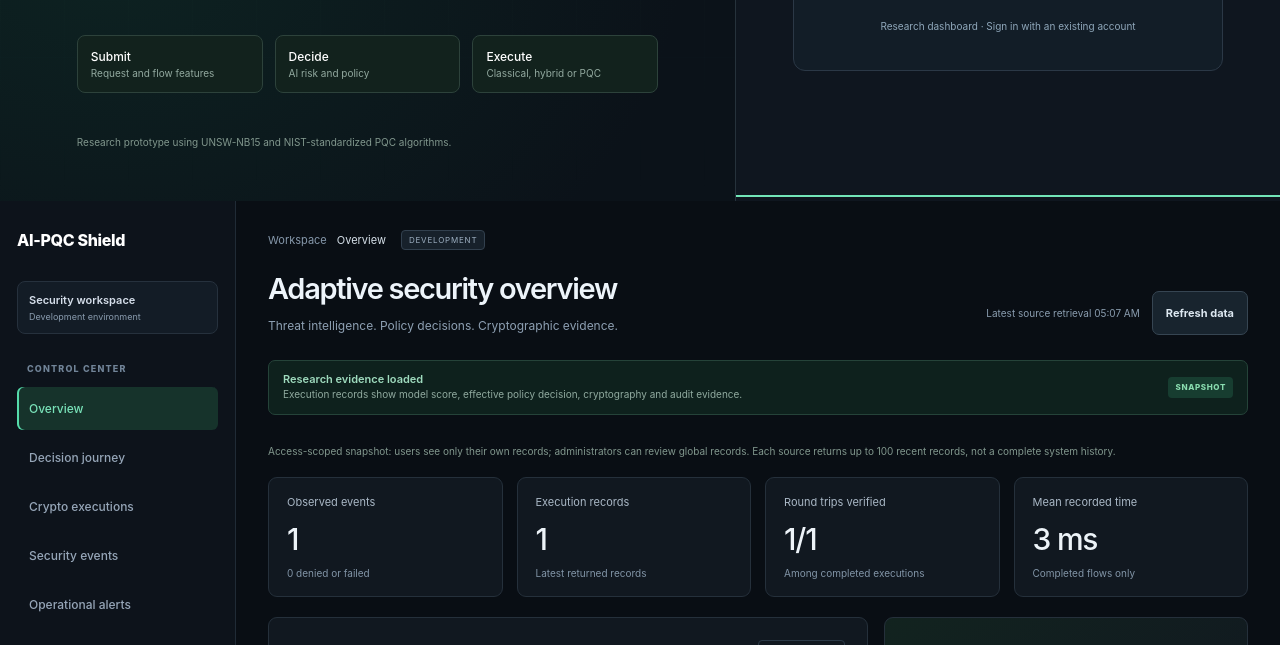
Test: Evidence session/access boundaries › clears a denied source before a slow peer finishes and excludes its data from exports
(page scrolled)
Expected: the text "Research evidence loaded" is shown, [283, 372, 423, 386]
Click the button "Refresh data".
click(1200, 313)  # box [1152, 291, 1248, 335]
(page scrolled)
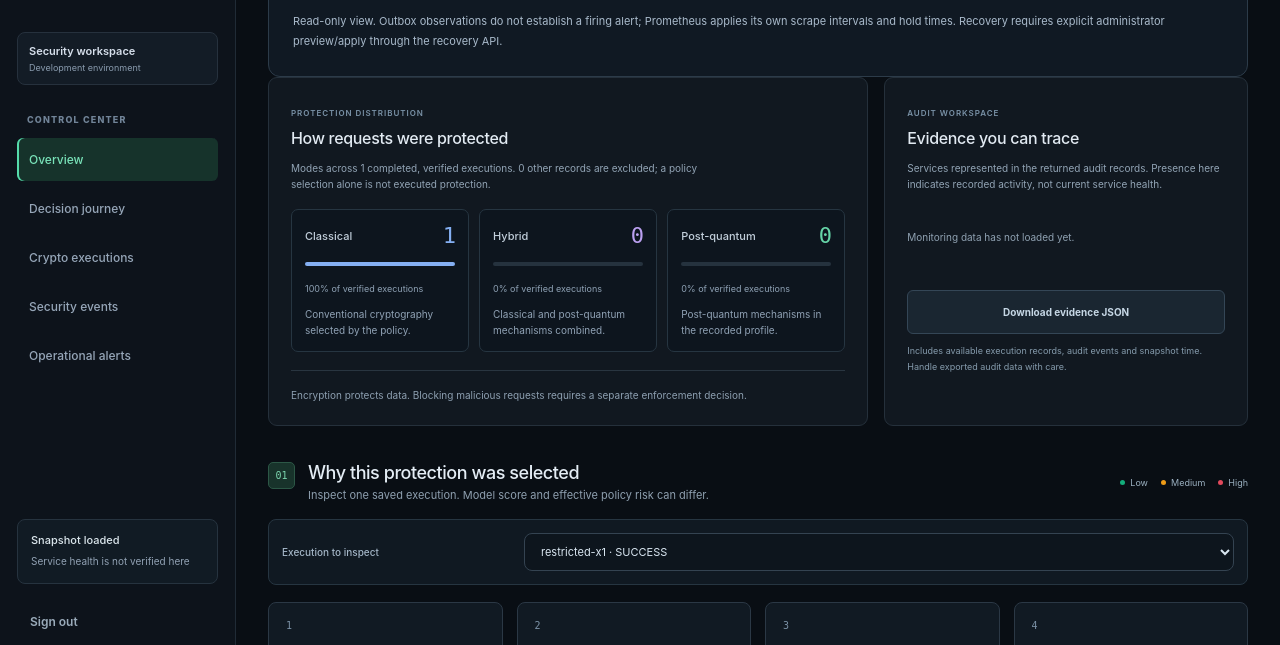
Click the button "Download evidence JSON".
click(1066, 312)  # box [907, 290, 1225, 334]
(page scrolled)
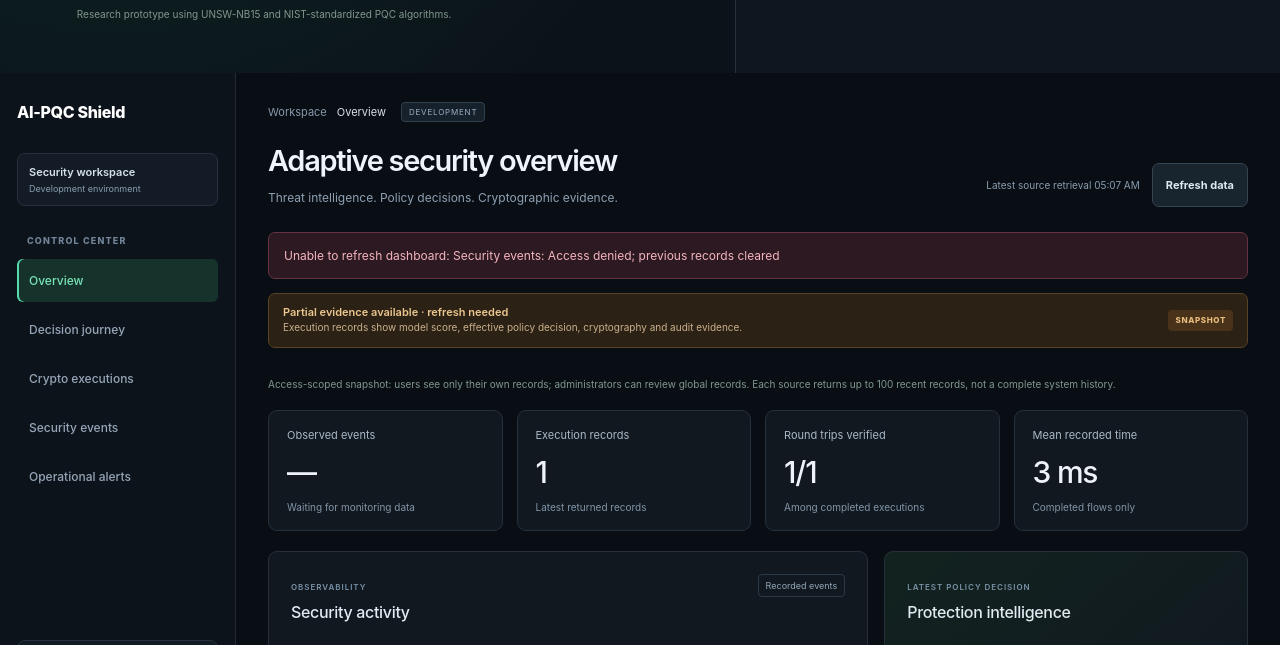
Now the text "Partial evidence available · refresh needed" is shown, box [283, 305, 508, 319]
